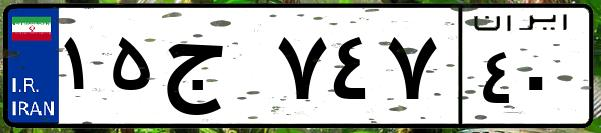0: (525, 38, 570, 115)
1: (57, 26, 110, 100)
4: (330, 28, 385, 110), (475, 38, 525, 113)
5: (110, 28, 158, 98)
7: (270, 28, 330, 110), (385, 28, 445, 110)
ج: (158, 20, 270, 120)
